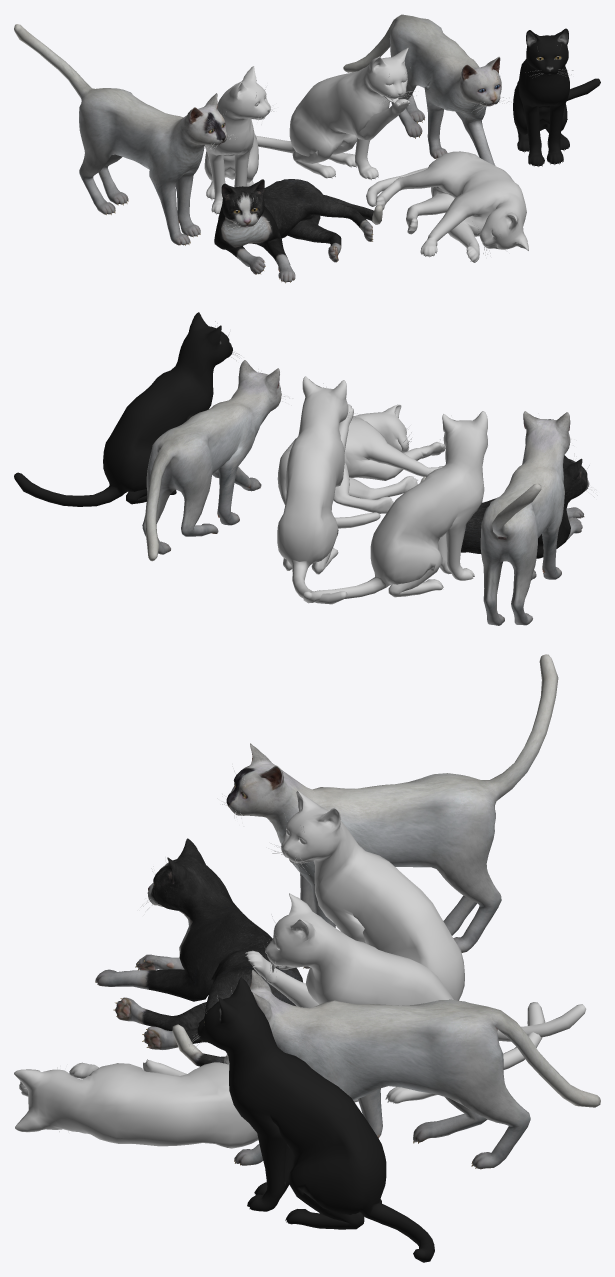
3 views of the same model, one above another, from view 1: azimuth 30°, elevation 25°; view 2: azimuth 150°, elevation 25°; view 3: azimuth 270°, elevation 25° (orthographic). The views are drawn at different scales.
Parts seen in each view (by area): view 1: huitugou_7015_02, huitugou_7015_05, huitugou_7015_07, huitugou_7015_06, huitugou_7015_03, huitugou_7015_01, huitugou_7015_04; view 2: huitugou_7015_04, huitugou_7015_06, huitugou_7015_02, huitugou_7015_01, huitugou_7015_05, huitugou_7015_07, huitugou_7015_03; view 3: huitugou_7015_06, huitugou_7015_01, huitugou_7015_02, huitugou_7015_07, huitugou_7015_03, huitugou_7015_04, huitugou_7015_05.
Boxes of the visible parts, x1,y1,x2,y2 form: huitugou_7015_02: (14,24,235,245); huitugou_7015_05: (256,48,416,179); huitugou_7015_07: (366,151,528,262); huitugou_7015_06: (343,14,511,165); huitugou_7015_03: (214,179,382,283); huitugou_7015_01: (513,28,600,166); huitugou_7015_04: (204,66,273,214); huitugou_7015_04: (302,411,487,603); huitugou_7015_06: (142,360,289,561); huitugou_7015_02: (480,411,574,625); huitugou_7015_01: (14,312,239,506); huitugou_7015_05: (277,376,358,604); huitugou_7015_07: (277,404,445,528); huitugou_7015_03: (420,453,599,558); huitugou_7015_06: (231,970,600,1169); huitugou_7015_01: (188,977,434,1262); huitugou_7015_02: (217,654,558,968); huitugou_7015_07: (14,1054,258,1148); huitugou_7015_03: (95,838,302,1066); huitugou_7015_04: (271,791,586,1041); huitugou_7015_05: (245,893,545,1103).
Bounding box in the file's own units: 218 × 71.16 × 142.
